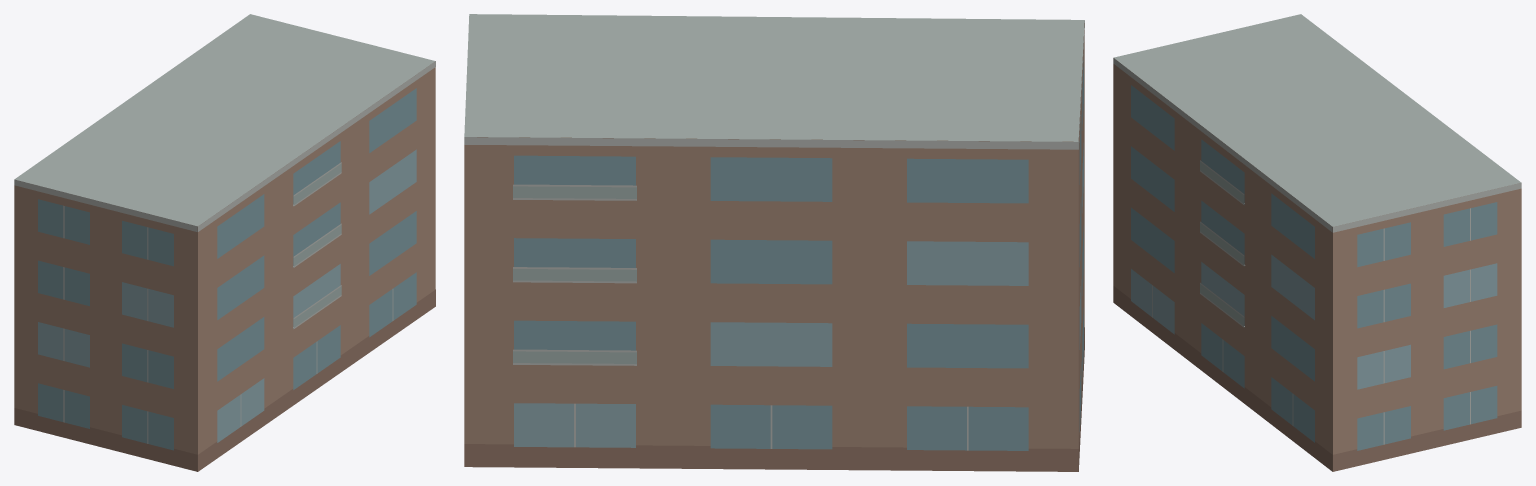
The model's file is survey-upis-32608727.glb.
The picture shows the model from 3 angles, left to right: view 1: azimuth 30°, elevation 25°; view 2: azimuth 150°, elevation 25°; view 3: azimuth 270°, elevation 25°; orthographic projection. The views are drawn at different scales.
Visible parts, largest first — view 1: survey-upis-32608727.tmp; view 2: survey-upis-32608727.tmp; view 3: survey-upis-32608727.tmp.
Boxes of the visible parts, x1=… form: survey-upis-32608727.tmp: x1=14, y1=14, x2=435, y2=471; survey-upis-32608727.tmp: x1=464, y1=14, x2=1084, y2=471; survey-upis-32608727.tmp: x1=1113, y1=14, x2=1521, y2=471.
Bounding box in the file's own units: 19.03 × 10.2 × 15.41.
